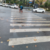zebra: (8, 8, 50, 45)
